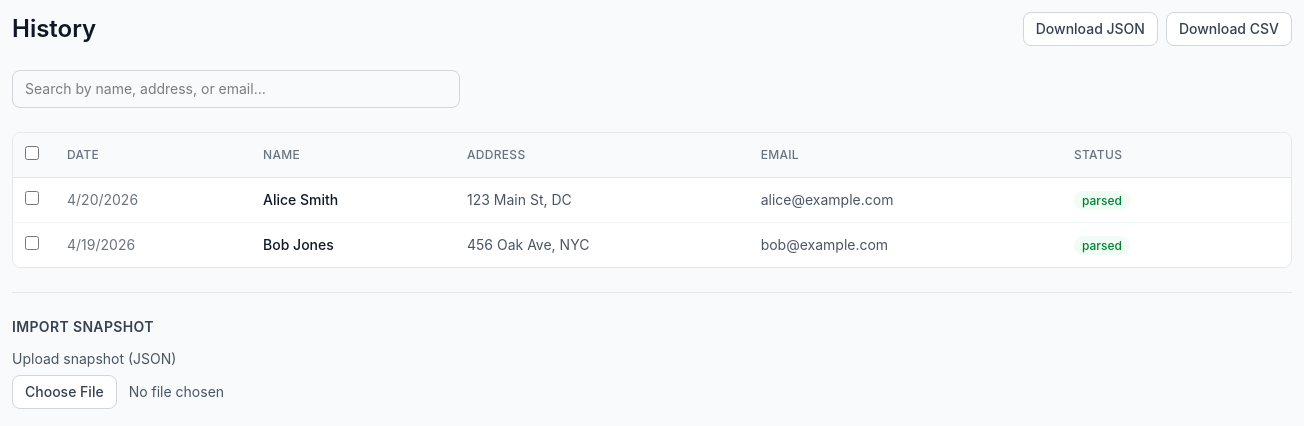
search by name filters out non-matching contacts
The width and height of the screenshot is (1304, 426).
Check: the text "Alice Smith" is shown, box [247,178,451,222]
Type "Alice" into the search field with placeholder "Search by name, address, or email…". click: (236, 89)
box: [12,70,460,108]
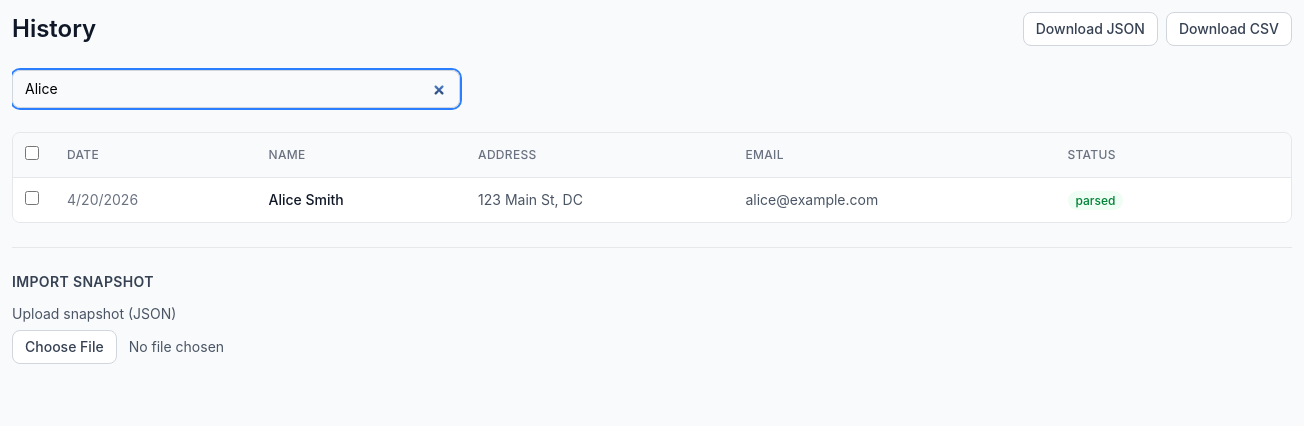
Check: the text "Alice Smith" is shown, box [252,178,462,222]
Check: the text "Bob Jones" is gone
